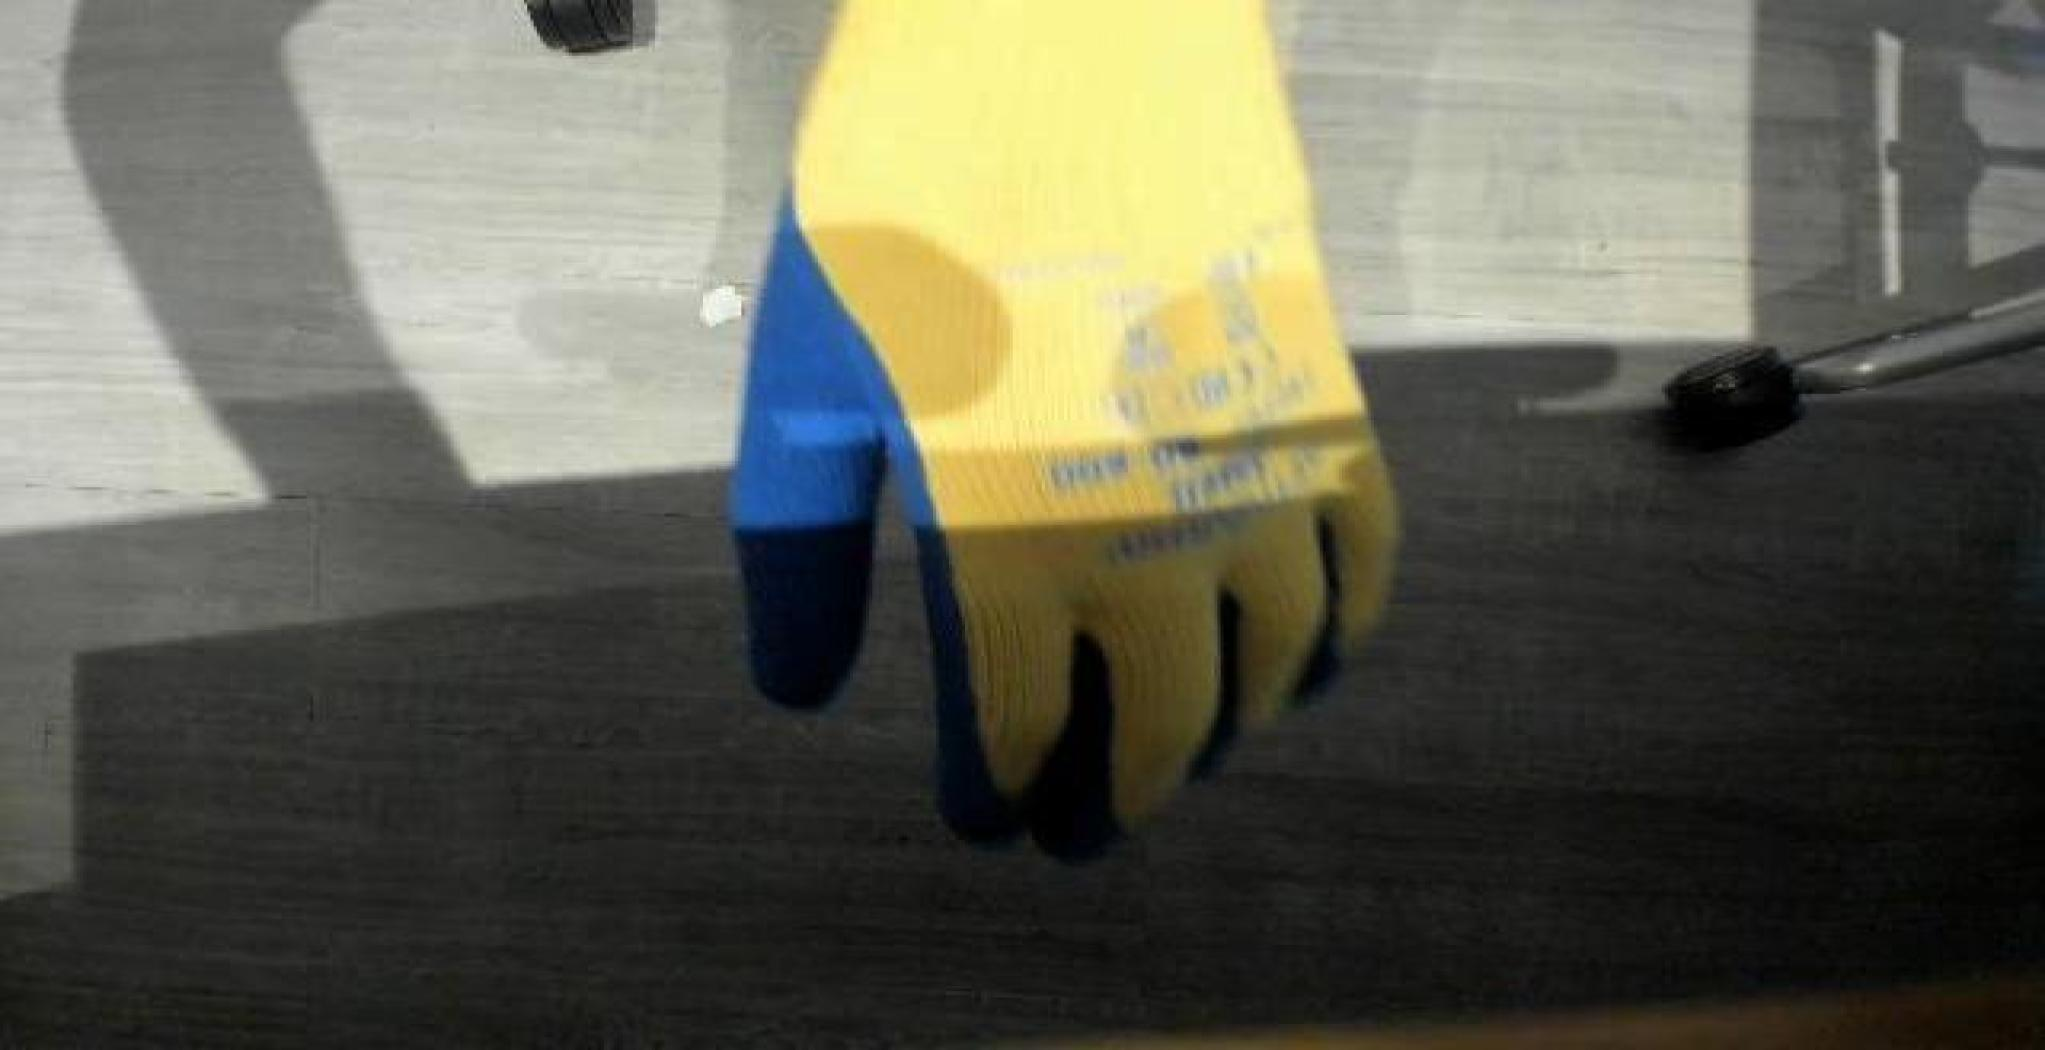gloved: (524, 0, 1549, 835)
